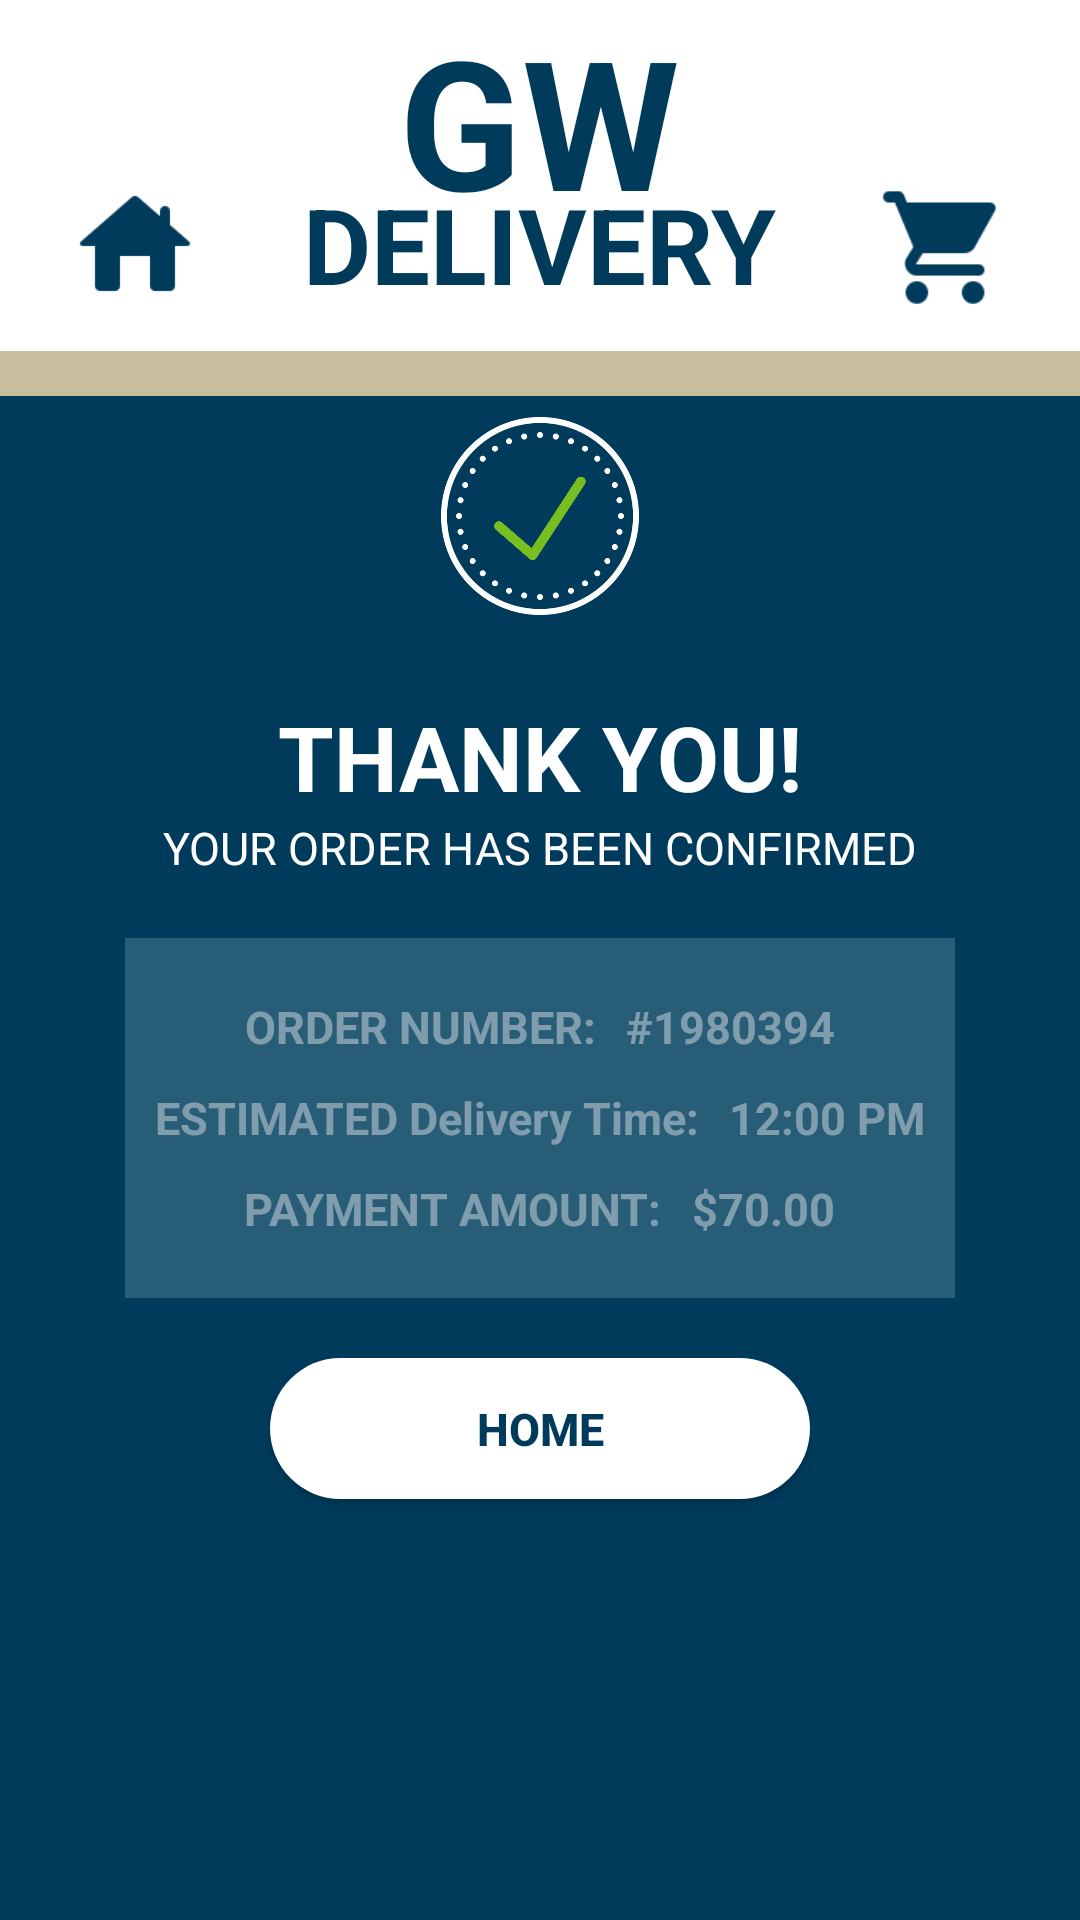

Where icons sit on this 1080×1920 app screen, as (x1, y1, x2, y2):
home: (80, 196, 190, 292)
shopping cart: (883, 191, 996, 304)
